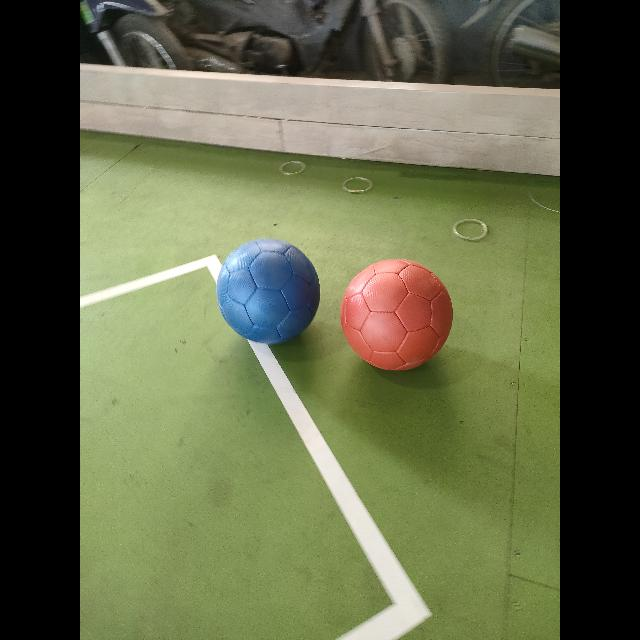B: (216, 239, 320, 343)
R: (342, 259, 452, 369)
